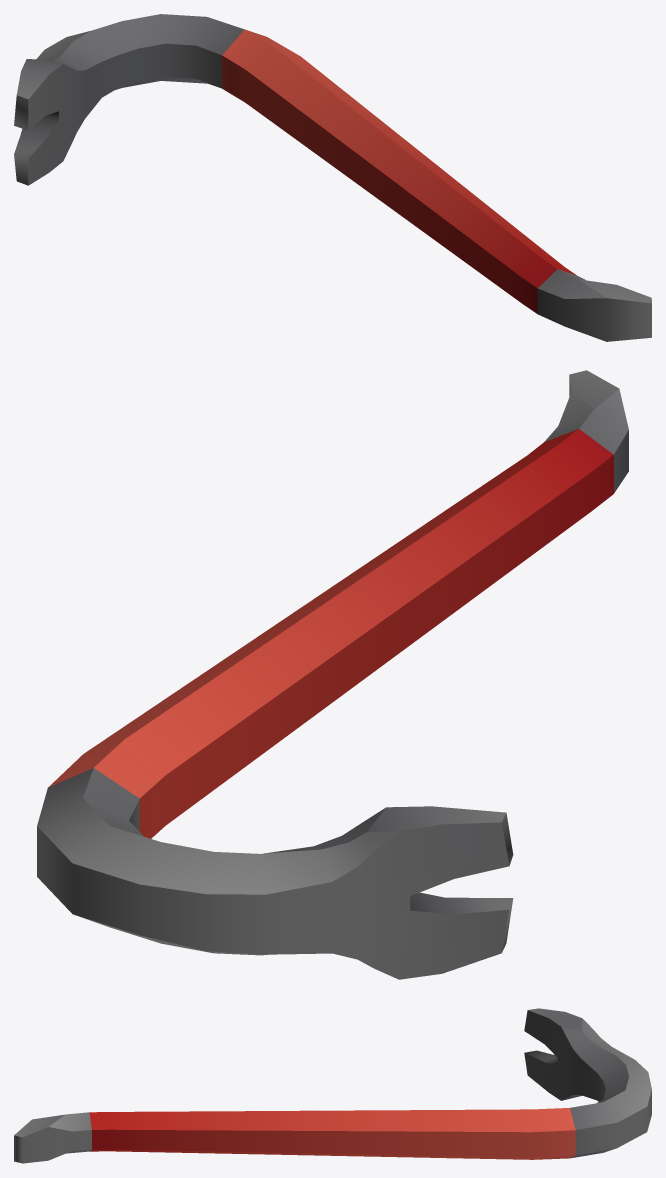
Rendered from Melee_Crowbar.fbx.
3 views of the same model, one above another, from view 1: azimuth 30°, elevation 25°; view 2: azimuth 150°, elevation 25°; view 3: azimuth 270°, elevation 25° (orthographic). The views are drawn at different scales.
Visible parts, largest first — view 1: Melee_Crowbar; view 2: Melee_Crowbar; view 3: Melee_Crowbar.
Part boxes in pixels (x1,y1,x2,y2): Melee_Crowbar: (14,14,651,341); Melee_Crowbar: (37,370,628,979); Melee_Crowbar: (14,1008,651,1163).
Bounding box in the file's own units: 0.3833 × 0.1203 × 0.9322.
